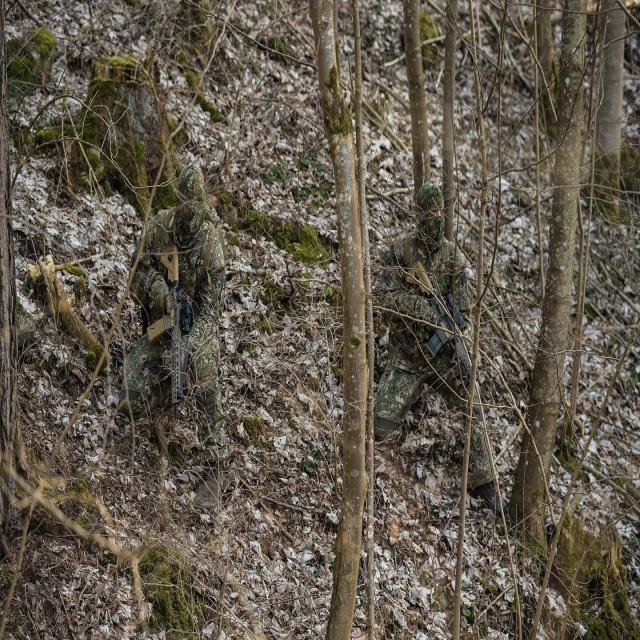Human: (375, 184, 507, 522), (116, 201, 226, 511)
